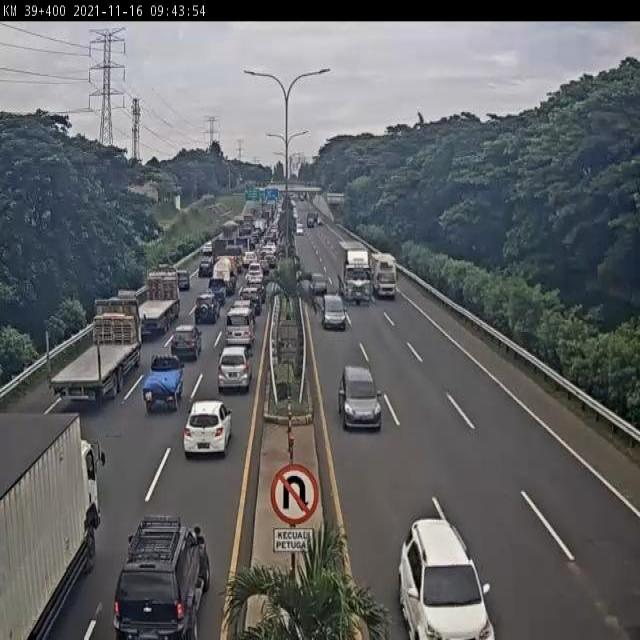Car: (394, 509, 500, 640), (109, 510, 214, 640), (182, 397, 233, 468), (339, 364, 384, 443), (218, 346, 252, 398), (171, 325, 200, 365), (321, 294, 346, 331), (195, 293, 217, 326), (240, 285, 260, 312), (310, 269, 329, 295), (208, 277, 225, 300), (175, 270, 190, 294), (248, 262, 264, 282), (197, 262, 214, 276), (296, 221, 306, 239)
Truck: (0, 410, 105, 638), (49, 297, 142, 407), (138, 265, 178, 342), (141, 353, 184, 416), (338, 241, 371, 302), (369, 247, 398, 299), (226, 305, 253, 345), (214, 254, 237, 294)
